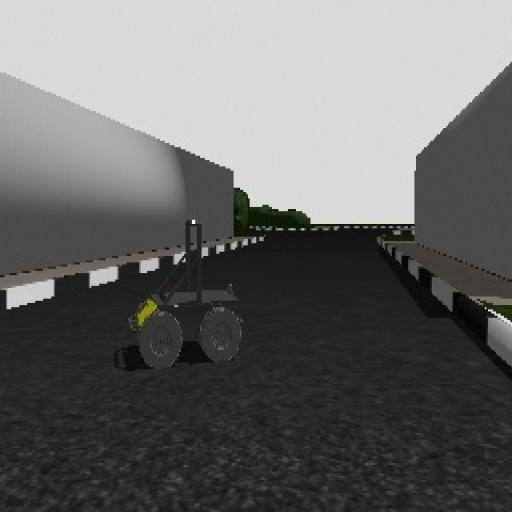huskya200: (114, 212, 254, 374)
